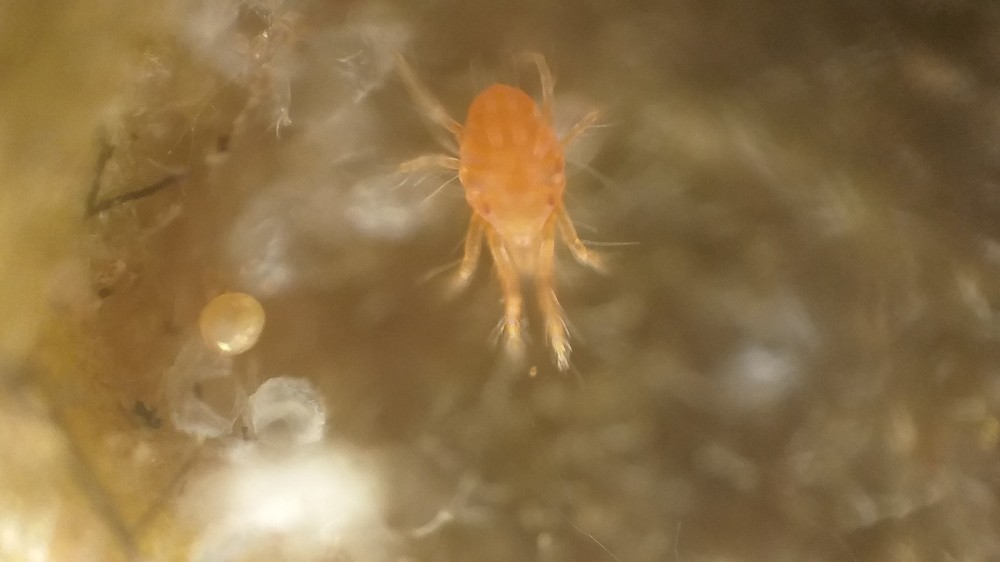Aracnido Rojo: (384, 42, 655, 411)
